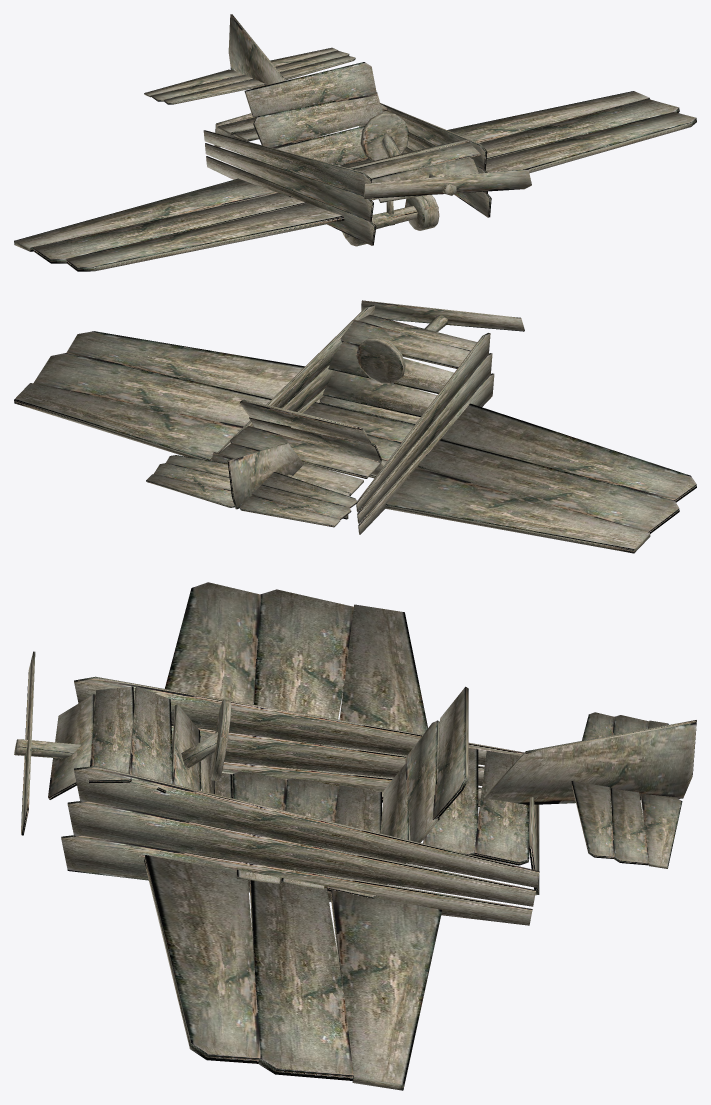
The picture shows the model from 3 angles, top to bottom: view 1: azimuth 30°, elevation 25°; view 2: azimuth 150°, elevation 25°; view 3: azimuth 270°, elevation 25°; orthographic projection. The views are drawn at different scales.
Visible parts, largest first — view 1: Wing, Tail, RightSide, AxleFront, Prop, LeftSide, SteeringWheel, WheelFrontLeft; view 2: Wing, Tail, AxleFront, RightSide, Cab, LeftSide, Prop, SteeringWheel; view 3: Wing, Tail, LeftSide, RightSide, AxleFront, Cab, Prop, SteeringWheel.
Boxes of the visible parts, left/top/right/bottom form: Wing: left=14, top=91, right=696, bottom=271; Tail: left=144, top=14, right=387, bottom=165; RightSide: left=203, top=130, right=376, bottom=245; AxleFront: left=342, top=133, right=480, bottom=238; Prop: left=364, top=169, right=531, bottom=198; LeftSide: left=359, top=103, right=491, bottom=217; SteeringWheel: left=360, top=112, right=409, bottom=160; WheelFrontLeft: left=405, top=195, right=439, bottom=230; Wing: left=14, top=331, right=696, bottom=553; Tail: left=146, top=399, right=383, bottom=527; AxleFront: left=323, top=314, right=477, bottom=416; RightSide: left=356, top=333, right=494, bottom=534; Cab: left=302, top=395, right=427, bottom=478; LeftSide: left=209, top=305, right=374, bottom=460; Prop: left=361, top=300, right=524, bottom=331; SteeringWheel: left=356, top=337, right=405, bottom=383; Wing: left=144, top=582, right=441, bottom=1090; Tail: left=379, top=686, right=696, bottom=895; LeftSide: left=61, top=766, right=539, bottom=925; RightSide: left=74, top=676, right=524, bottom=801; AxleFront: left=14, top=686, right=217, bottom=799; Cab: left=214, top=771, right=381, bottom=898; Prop: left=21, top=651, right=35, bottom=835; SteeringWheel: left=210, top=699, right=231, bottom=781.
Size of the model in its own units: 73.29 by 13.09 by 44.34.
1 material, 1 textured.
